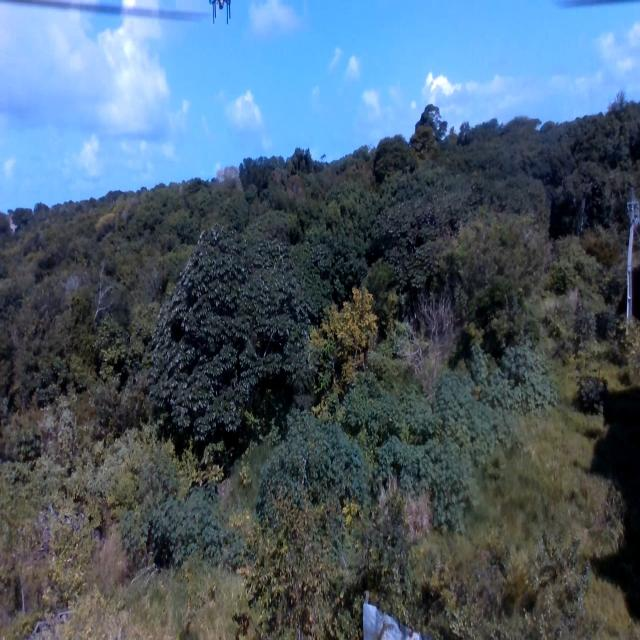-uav-: (204, 0, 243, 36)
